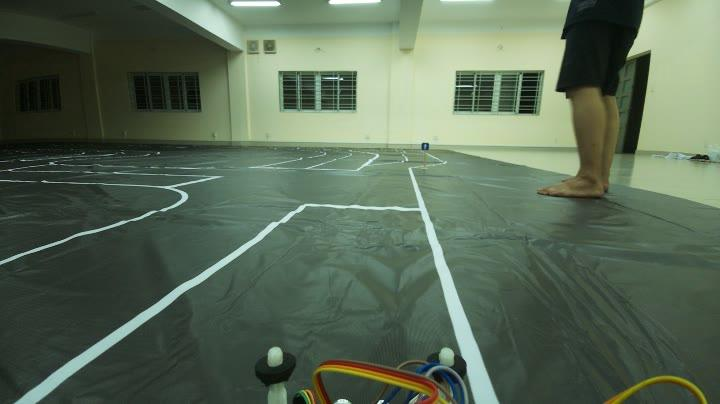onewayroad: (420, 139, 432, 154)
